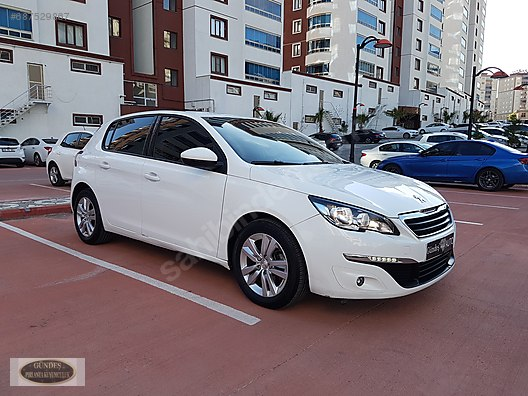peugeot: (68, 106, 468, 323)
